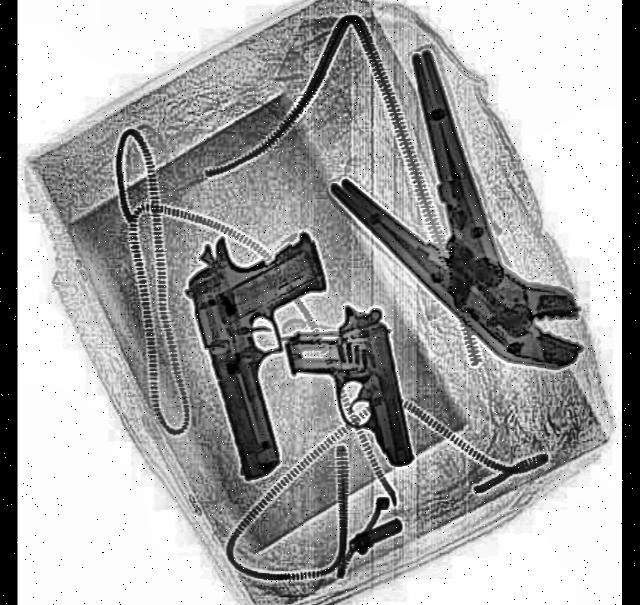Gun: (174, 206, 370, 484), (278, 294, 416, 490)
